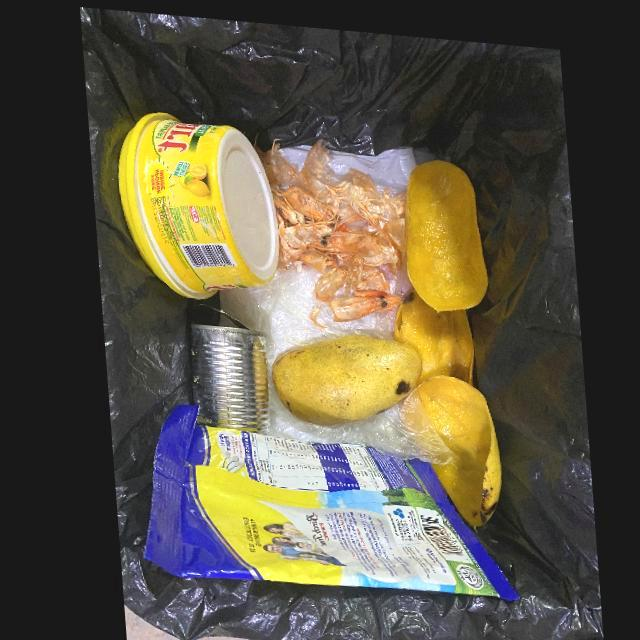aluminum: (181, 301, 264, 431)
food_wrapper: (135, 402, 511, 593)
left_over_food: (252, 134, 409, 297), (326, 284, 397, 316)
plastic_container: (114, 110, 277, 298)
